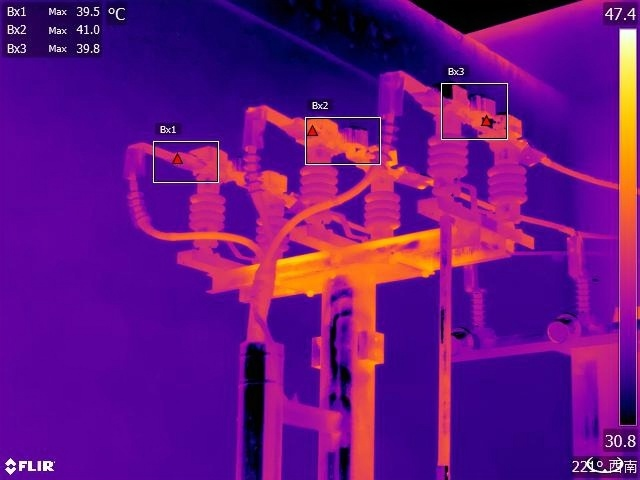post insulator: (183, 182, 233, 246), (296, 158, 341, 217), (484, 155, 528, 212), (424, 130, 470, 180), (362, 184, 405, 232), (249, 212, 290, 260)
switch: (398, 68, 543, 153), (180, 140, 292, 207), (298, 117, 387, 177)
tube: (374, 119, 404, 174), (122, 180, 149, 233), (239, 150, 264, 195), (572, 274, 594, 323), (467, 291, 488, 329)
